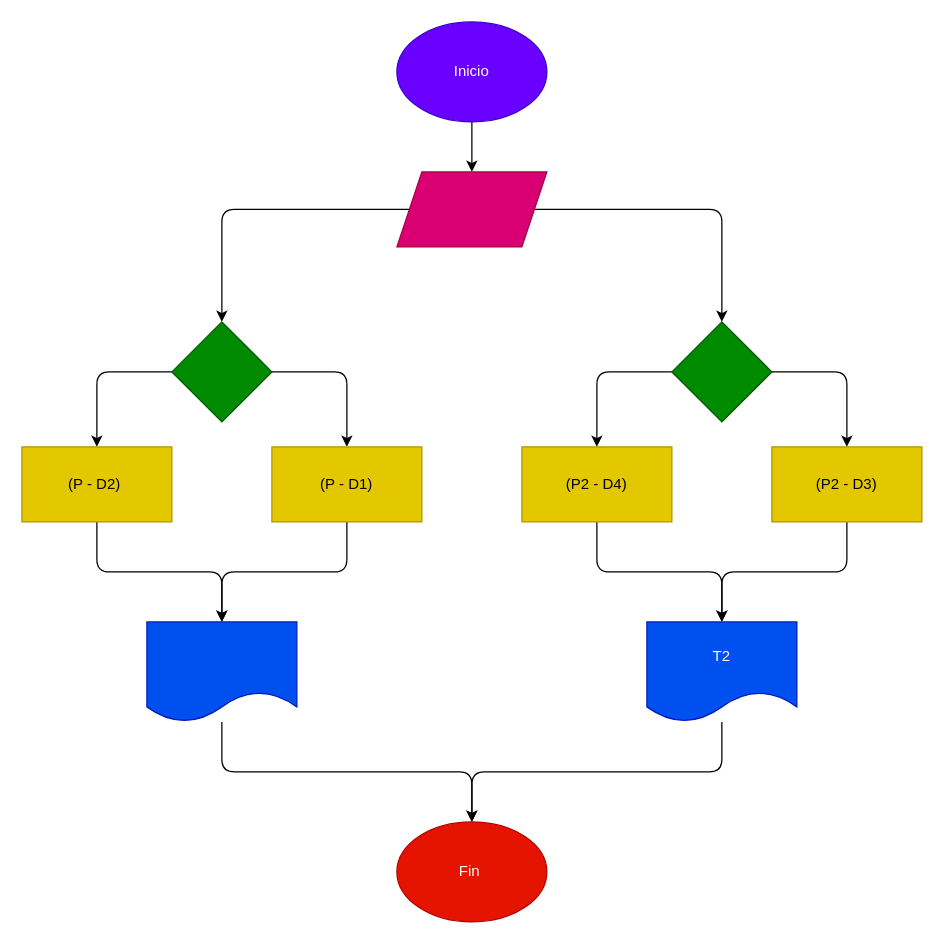
Some shapes in this 944 by 944 pixel diagram are drawn without their labels. The box of each missing label's shape, as (x1, y1, x2, y2) in pixels:
M == 1: (171, 321, 272, 422)
M, P, M2, P2: (396, 171, 547, 247)
M2 == 1: (671, 321, 772, 422)
T1: (146, 621, 297, 722)
